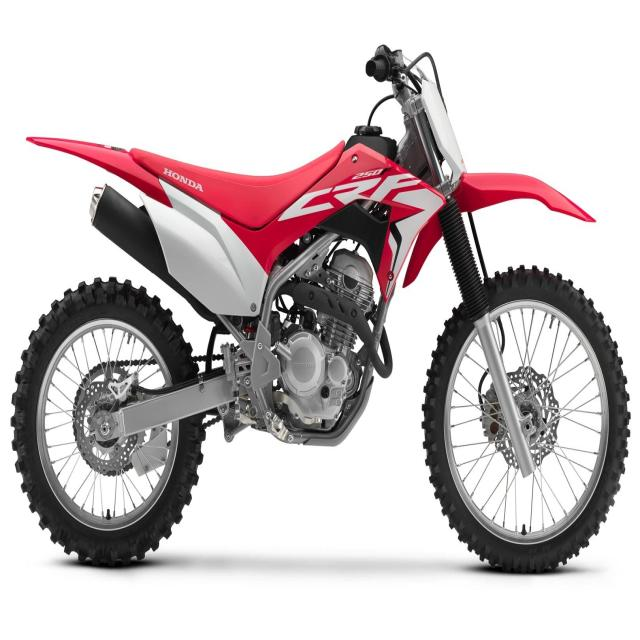Motorcycle: (11, 45, 631, 571)
